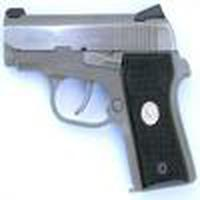gun: (2, 4, 199, 185)
